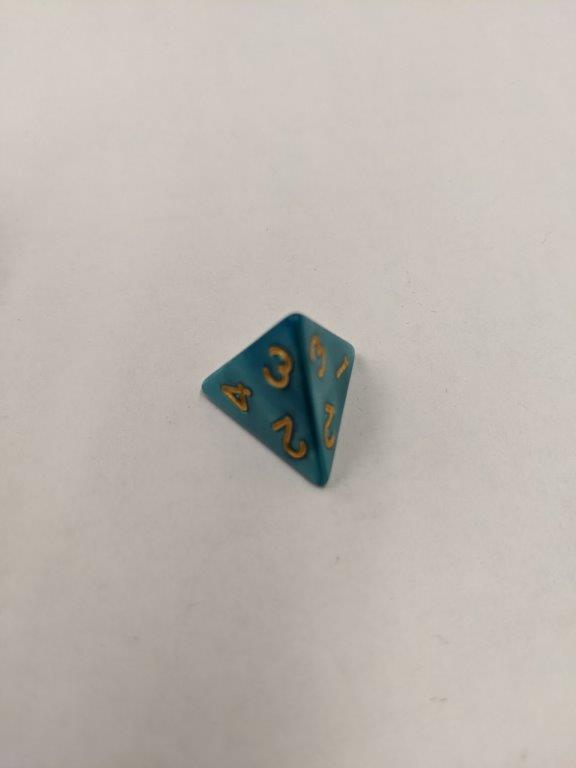d4-3: (195, 309, 358, 491)
